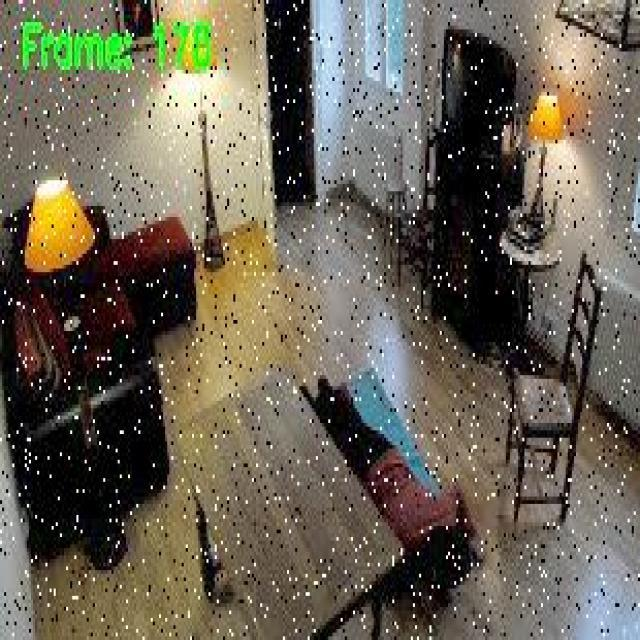fall: (294, 373, 486, 627)
